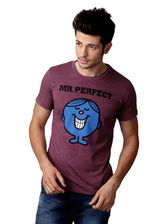clothoes: (36, 61, 144, 195)
